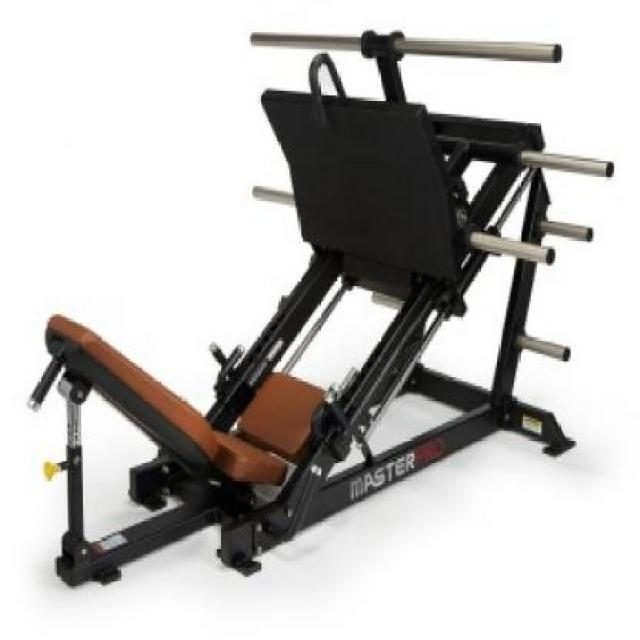leg press: (6, 12, 620, 608)
